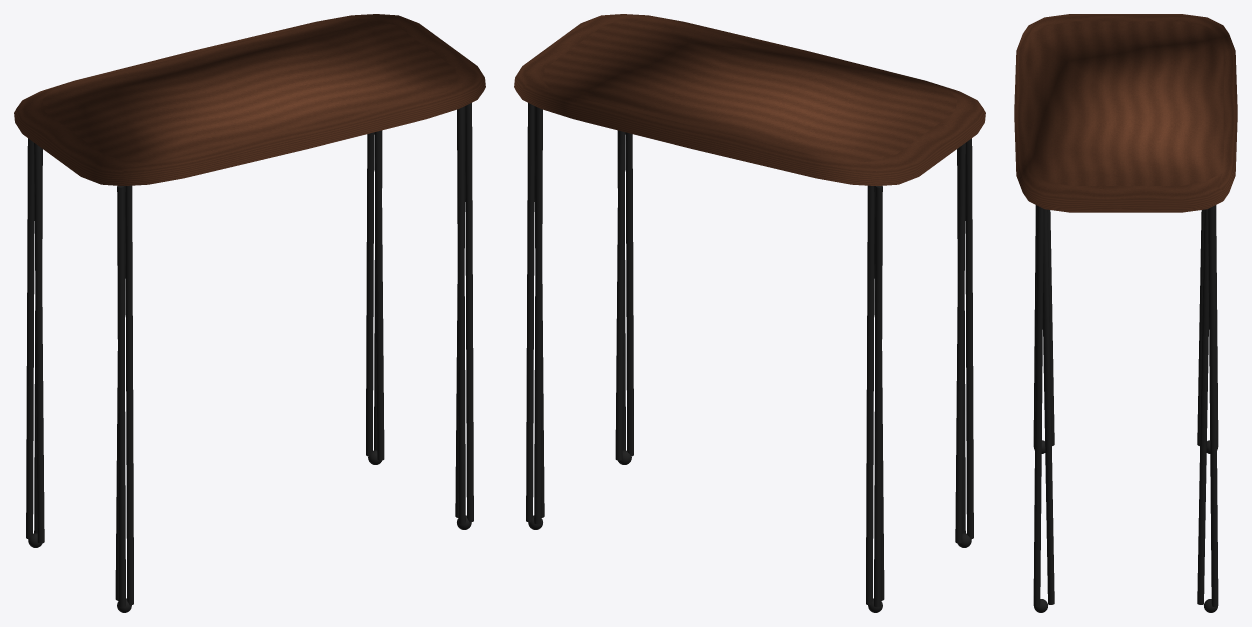
3 renders of one model, left to right at view 1: azimuth 30°, elevation 25°; view 2: azimuth 150°, elevation 25°; view 3: azimuth 270°, elevation 25°, orthographic. The views are drawn at different scales.
Parts seen in each view (by area): view 1: 1 tabletop, 2 front_left_leg_rod_1, 7 front_right_leg_rod_2, 3 front_left_leg_rod_2, 6 front_right_leg_rod_1, 10 back_left_leg_rod_1, 12 back_left_leg_rod_3, 16 back_right_leg_rod_3, 14 back_right_leg_rod_1, 4 front_left_leg_rod_3, 8 front_right_leg_rod_3, 11 back_left_leg_rod_2 (+1 smaller); view 2: 1 tabletop, 10 back_left_leg_rod_1, 15 back_right_leg_rod_2, 11 back_left_leg_rod_2, 14 back_right_leg_rod_1, 2 front_left_leg_rod_1, 4 front_left_leg_rod_3, 8 front_right_leg_rod_3, 6 front_right_leg_rod_1, 12 back_left_leg_rod_3, 16 back_right_leg_rod_3, 3 front_left_leg_rod_2 (+1 smaller); view 3: 1 tabletop, 7 front_right_leg_rod_2, 15 back_right_leg_rod_2, 8 front_right_leg_rod_3, 16 back_right_leg_rod_3, 4 front_left_leg_rod_3, 12 back_left_leg_rod_3, 3 front_left_leg_rod_2, 11 back_left_leg_rod_2.
Part boxes in pixels (x1=…): 1 tabletop: x1=14, y1=14, x2=485, y2=185; 2 front_left_leg_rod_1: x1=117, y1=185, x2=125, y2=607; 7 front_right_leg_rod_2: x1=465, y1=103, x2=473, y2=522; 3 front_left_leg_rod_2: x1=125, y1=185, x2=133, y2=605; 6 front_right_leg_rod_1: x1=457, y1=107, x2=465, y2=524; 10 back_left_leg_rod_1: x1=26, y1=138, x2=34, y2=539; 12 back_left_leg_rod_3: x1=34, y1=143, x2=44, y2=543; 16 back_right_leg_rod_3: x1=374, y1=130, x2=384, y2=460; 14 back_right_leg_rod_1: x1=366, y1=132, x2=374, y2=456; 4 front_left_leg_rod_3: x1=115, y1=186, x2=125, y2=600; 8 front_right_leg_rod_3: x1=455, y1=106, x2=465, y2=517; 11 back_left_leg_rod_2: x1=34, y1=148, x2=42, y2=533; 1 tabletop: x1=514, y1=14, x2=985, y2=185; 10 back_left_leg_rod_1: x1=874, y1=185, x2=882, y2=607; 15 back_right_leg_rod_2: x1=526, y1=103, x2=534, y2=522; 11 back_left_leg_rod_2: x1=866, y1=185, x2=874, y2=605; 14 back_right_leg_rod_1: x1=534, y1=107, x2=542, y2=524; 2 front_left_leg_rod_1: x1=965, y1=138, x2=973, y2=539; 4 front_left_leg_rod_3: x1=955, y1=143, x2=965, y2=543; 8 front_right_leg_rod_3: x1=615, y1=130, x2=625, y2=460; 6 front_right_leg_rod_1: x1=625, y1=132, x2=633, y2=456; 12 back_left_leg_rod_3: x1=874, y1=186, x2=884, y2=600; 16 back_right_leg_rod_3: x1=534, y1=106, x2=544, y2=517; 3 front_left_leg_rod_2: x1=957, y1=148, x2=965, y2=533; 1 tabletop: x1=1014, y1=14, x2=1237, y2=212; 7 front_right_leg_rod_2: x1=1033, y1=206, x2=1043, y2=606; 15 back_right_leg_rod_2: x1=1208, y1=206, x2=1218, y2=606; 8 front_right_leg_rod_3: x1=1043, y1=209, x2=1054, y2=604; 16 back_right_leg_rod_3: x1=1197, y1=209, x2=1208, y2=604; 4 front_left_leg_rod_3: x1=1047, y1=209, x2=1054, y2=445; 12 back_left_leg_rod_3: x1=1197, y1=209, x2=1204, y2=445; 3 front_left_leg_rod_2: x1=1033, y1=205, x2=1037, y2=447; 11 back_left_leg_rod_2: x1=1214, y1=205, x2=1218, y2=447.
Size of the model in its own units: 0.6096 by 0.6477 by 0.3048.
2 materials, 1 textured.
